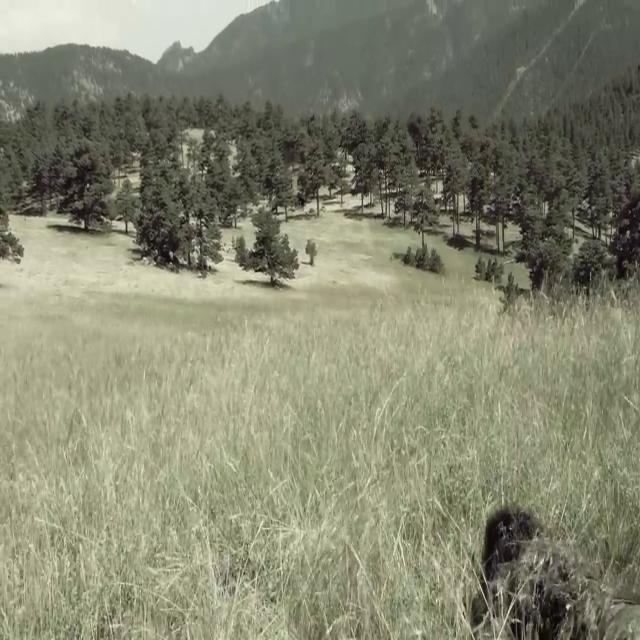Camouflage: (473, 502, 640, 619)
